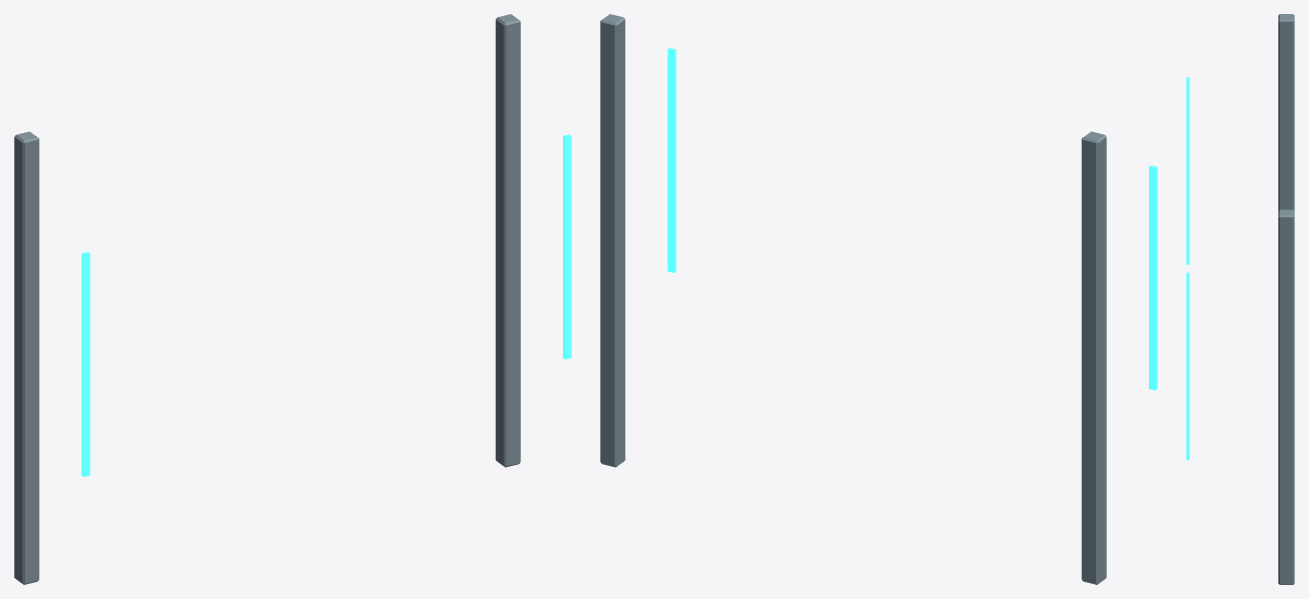
Rendered from City_TransitShelter_Frame.glb.
3 views of the same model, side by side, from view 1: azimuth 30°, elevation 25°; view 2: azimuth 150°, elevation 25°; view 3: azimuth 270°, elevation 25° (orthographic). The views are drawn at different scales.
Parts seen in each view (by area): view 1: City_TransitShelter_Frame; view 2: City_TransitShelter_Frame; view 3: City_TransitShelter_Frame.
Boxes of the visible parts, left/top/right/bottom form: City_TransitShelter_Frame: left=14, top=14, right=571, bottom=584; City_TransitShelter_Frame: left=600, top=14, right=1157, bottom=584; City_TransitShelter_Frame: left=1186, top=14, right=1294, bottom=584.
Bounding box in the file's own units: 3.52 × 3 × 0.7955.
